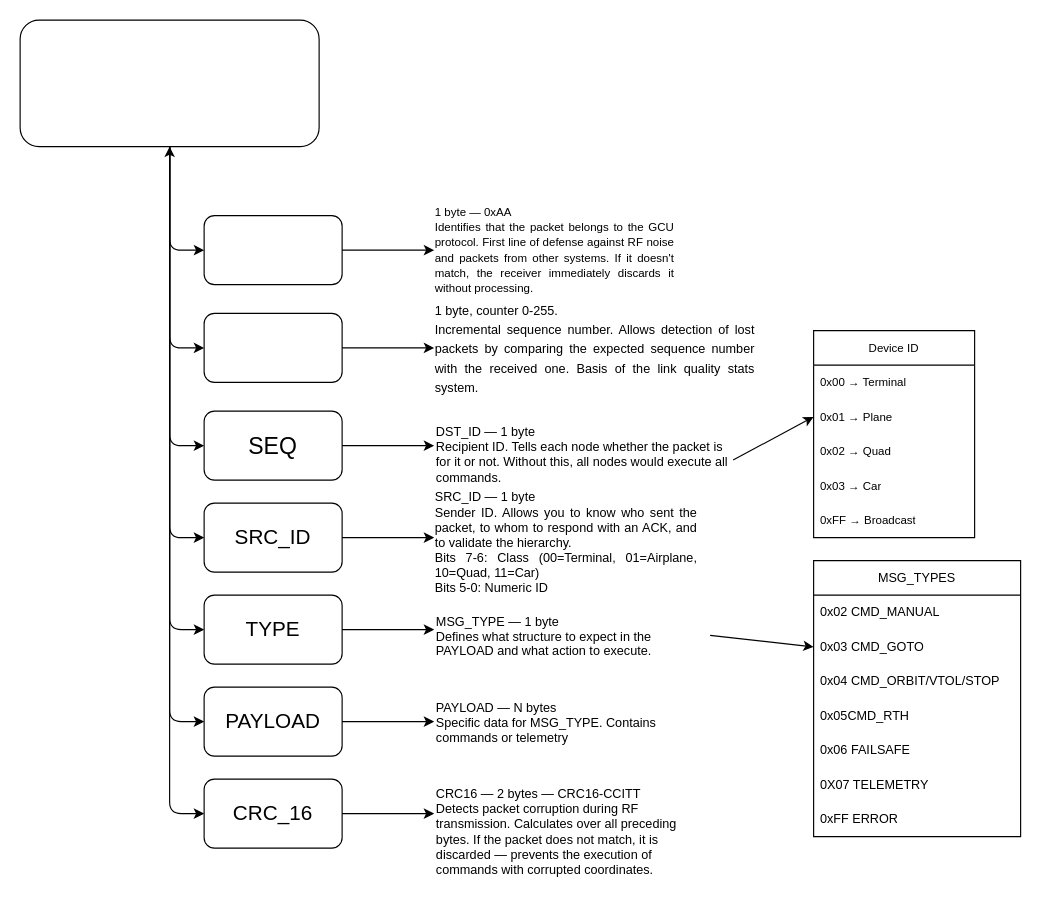
Some shapes in this 1041 by 898 pixel diagram are drawn without their labels. The centre of each missing label's shape, as x and y in pixels:
"DST_ID" belongs at (272,347).
"MAGIC" belongs at (272,249).
"MASTER PROTOCOL" belongs at (169,83).
